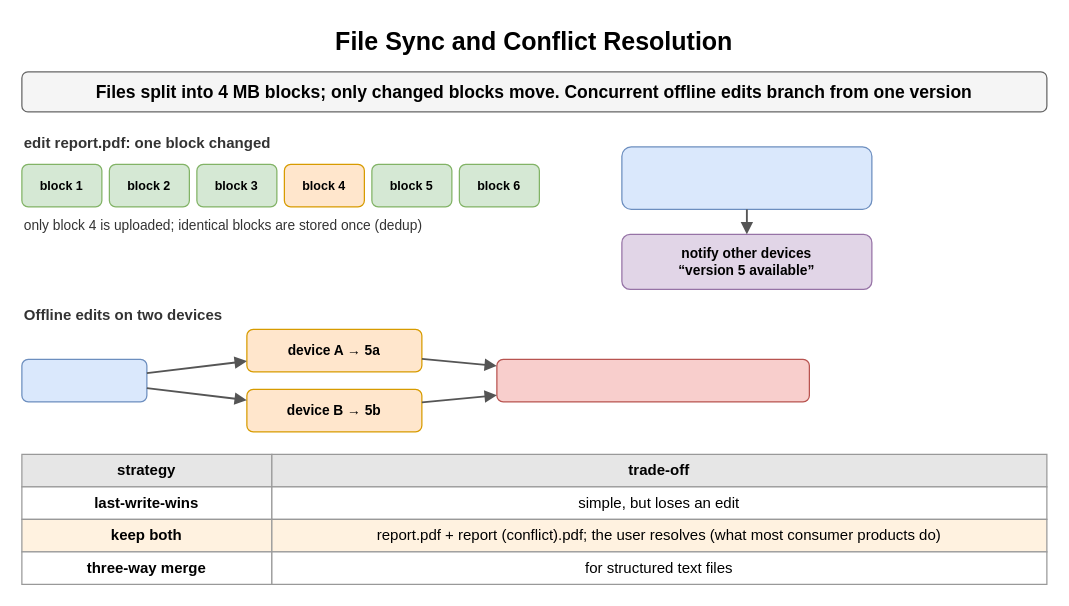
Image size: 1069x606. Some labels were removed from this diagram. Each missing label, with the centre of its shape:
metadata DB file_id · version · block_list: (x=746, y=177)
sync: both branched from 4 → conflict: (x=652, y=380)
version 4: (x=84, y=380)
